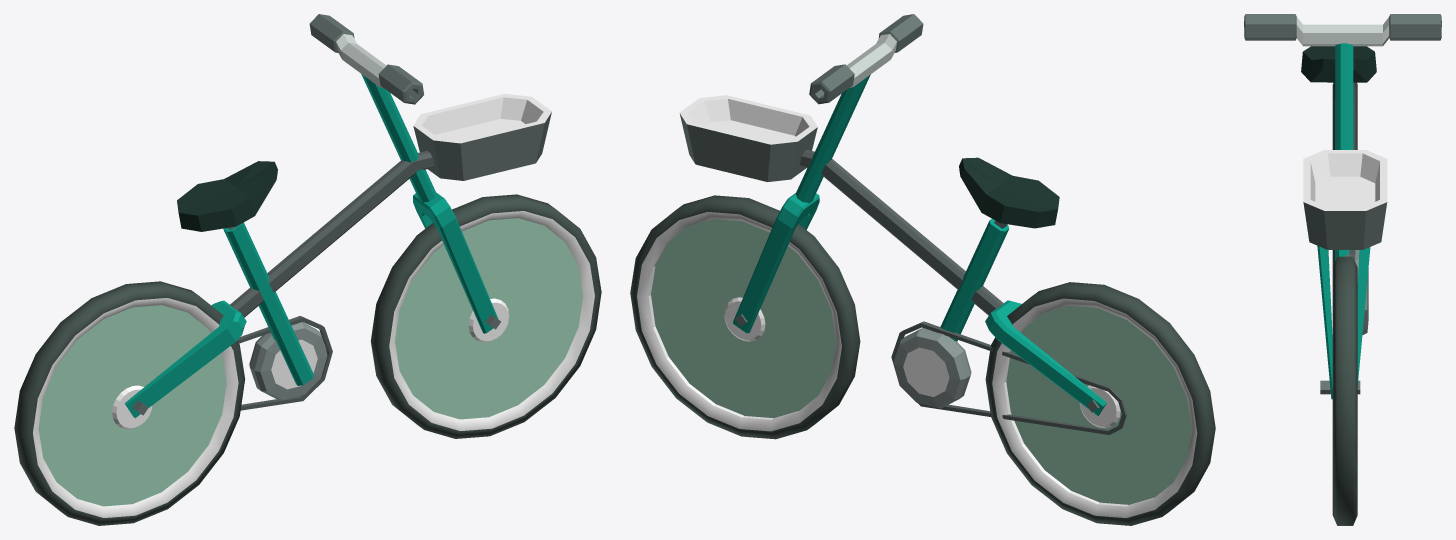
File: SM_Bike.fbx
3 renders of one model, left to right at view 1: azimuth 30°, elevation 25°; view 2: azimuth 150°, elevation 25°; view 3: azimuth 270°, elevation 25°, orthographic. The views are drawn at different scales.
Parts seen in each view (by area): view 1: SM_Bike_W, SM_Bike_W1, SM_Bike_B; view 2: SM_Bike_W, SM_Bike_W1, SM_Bike_B; view 3: SM_Bike_B, SM_Bike_W, SM_Bike_W1.
Part boxes in pixels (<box>): SM_Bike_W: <box>370,194,601,438</box>; SM_Bike_W1: <box>14,281,245,525</box>; SM_Bike_B: <box>124,14,551,418</box>; SM_Bike_W: <box>630,195,860,439</box>; SM_Bike_W1: <box>985,282,1215,525</box>; SM_Bike_B: <box>679,14,1126,434</box>; SM_Bike_B: <box>1244,14,1441,399</box>; SM_Bike_W: <box>1332,256,1357,525</box>; SM_Bike_W1: <box>1332,82,1357,266</box>.
Size of the model in its own units: 202 by 139 by 56.91.
